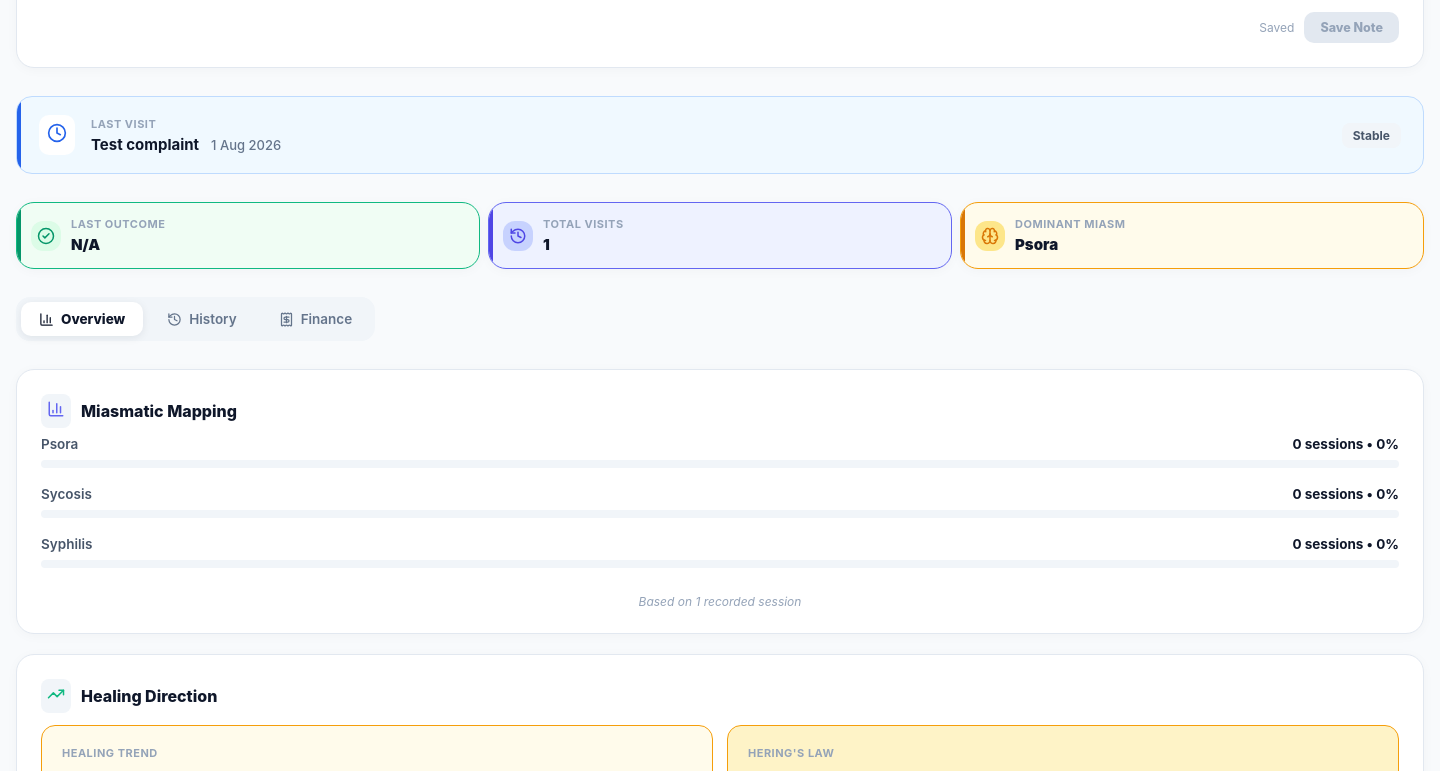
PatientPage — Payment History mobile card layout › renders payment history as cards (not a table) on mobile, showing the same data
(page scrolled)
Click the button "Finance" at point(315, 320), box [261,302,370,336]
(page scrolled)
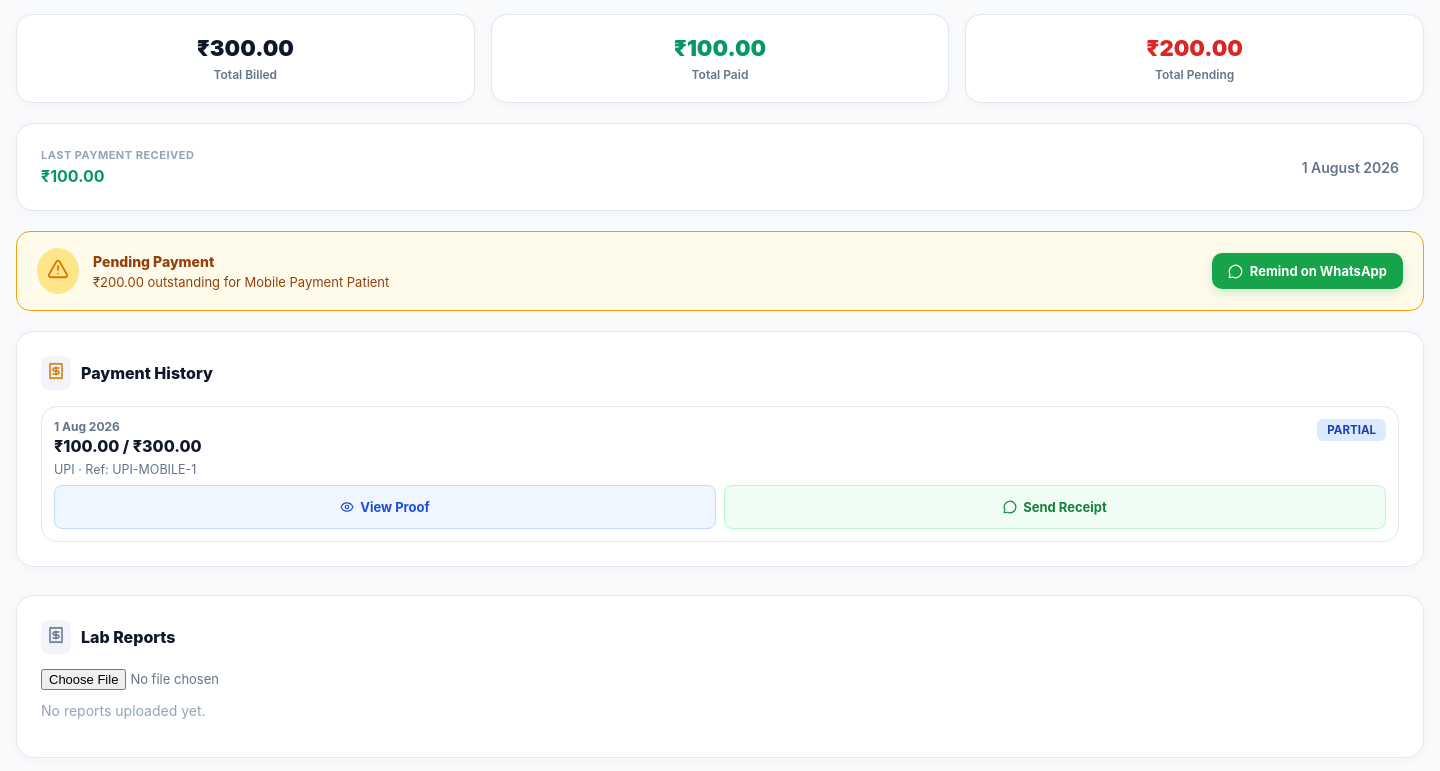
Check: the heading "Payment History" is shown, box [81,364,213,384]
Check: the text "₹100.00 / ₹300.00" is shown, box [54,436,202,456]
Check: the text "UPI · Ref: UPI-MOBILE-1" is shown, box [54,462,196,478]
